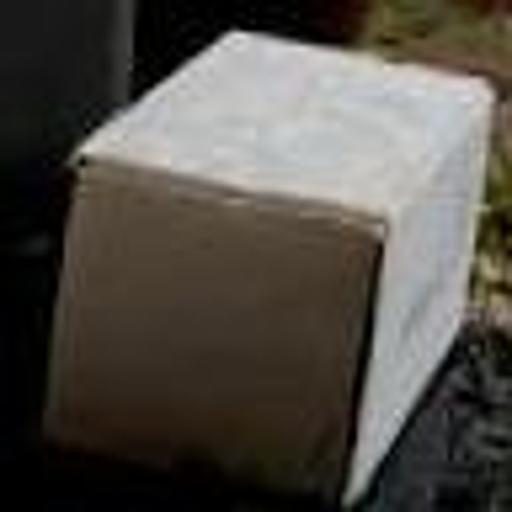Other: (51, 34, 494, 496)
